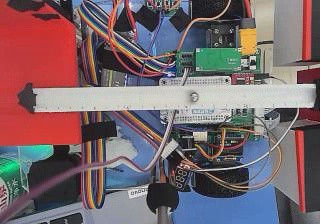ironball: (188, 91, 198, 102)
